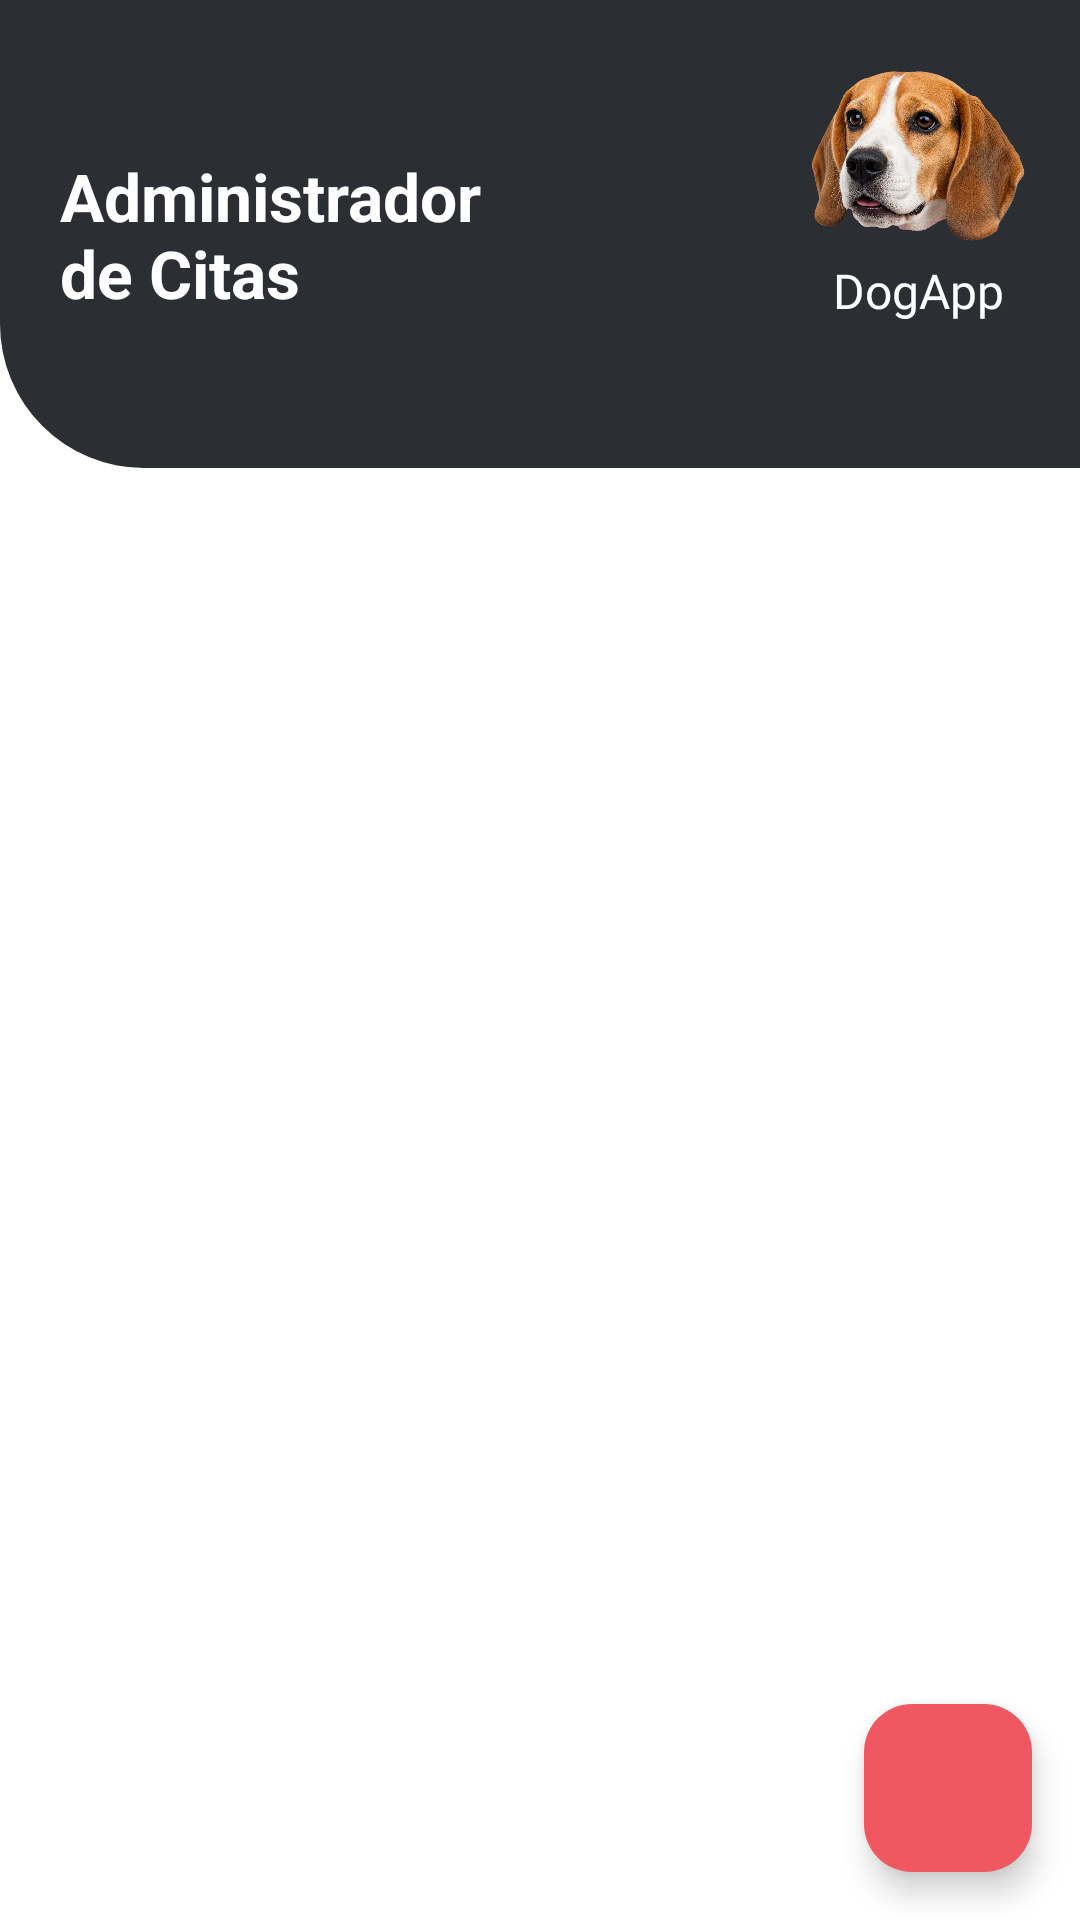

Locate icon controls on the screen. Image size 1080 x 1920, boxes as (x1, y1, x2, y2).
Cabeza de un perro: (811, 71, 1025, 241)
